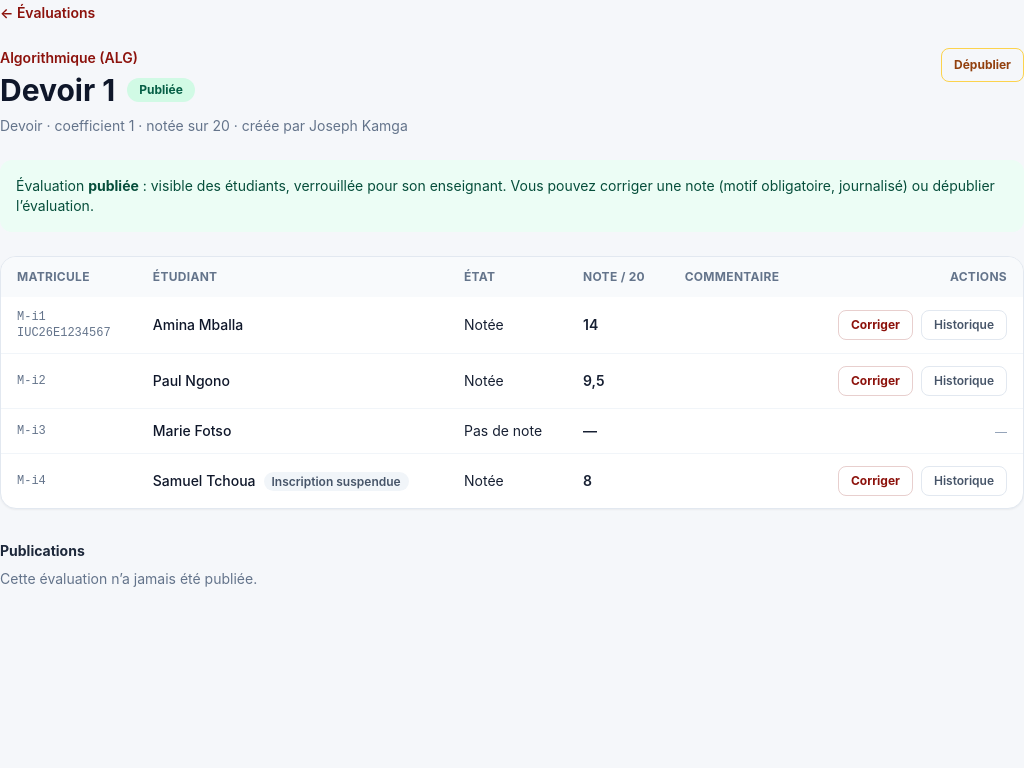
Scenario: grille de notes du personnel › conflit : relit la grille, garde la fenêtre, les saisies et le motif, indique la valeur actuelle
Click the button "Corriger" in the row of "M-i1": (875, 325) [838,310,913,340]
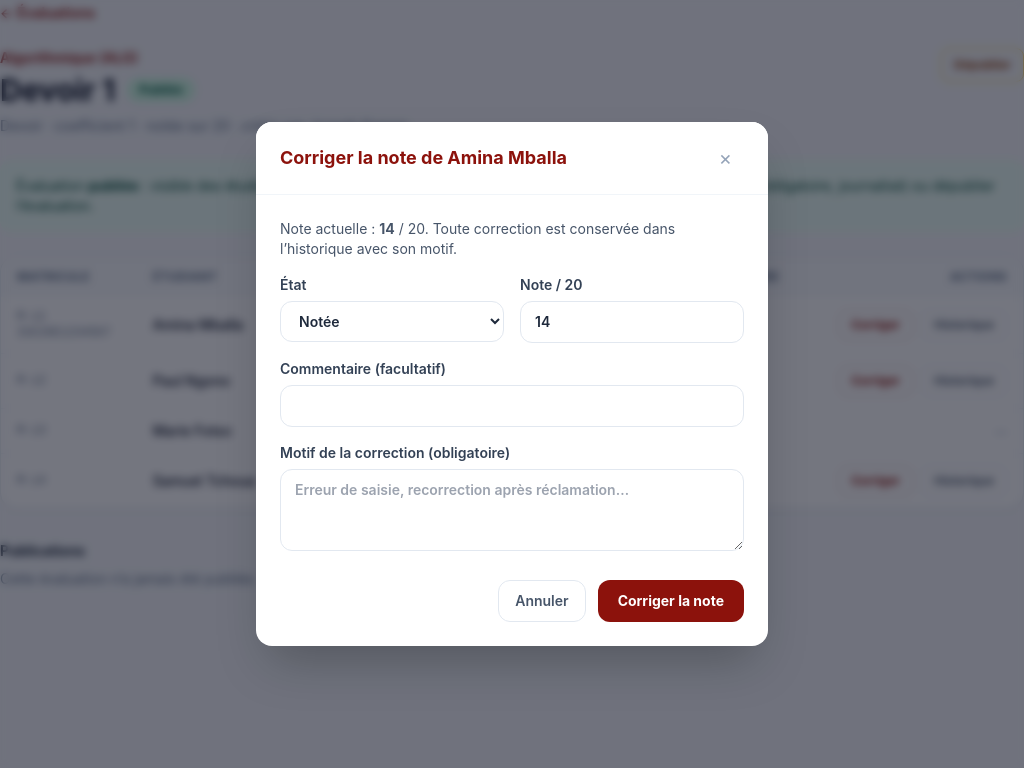
Replace the text in the field labelled "Note / 20" with "13": (632, 322) [520,301,744,343]
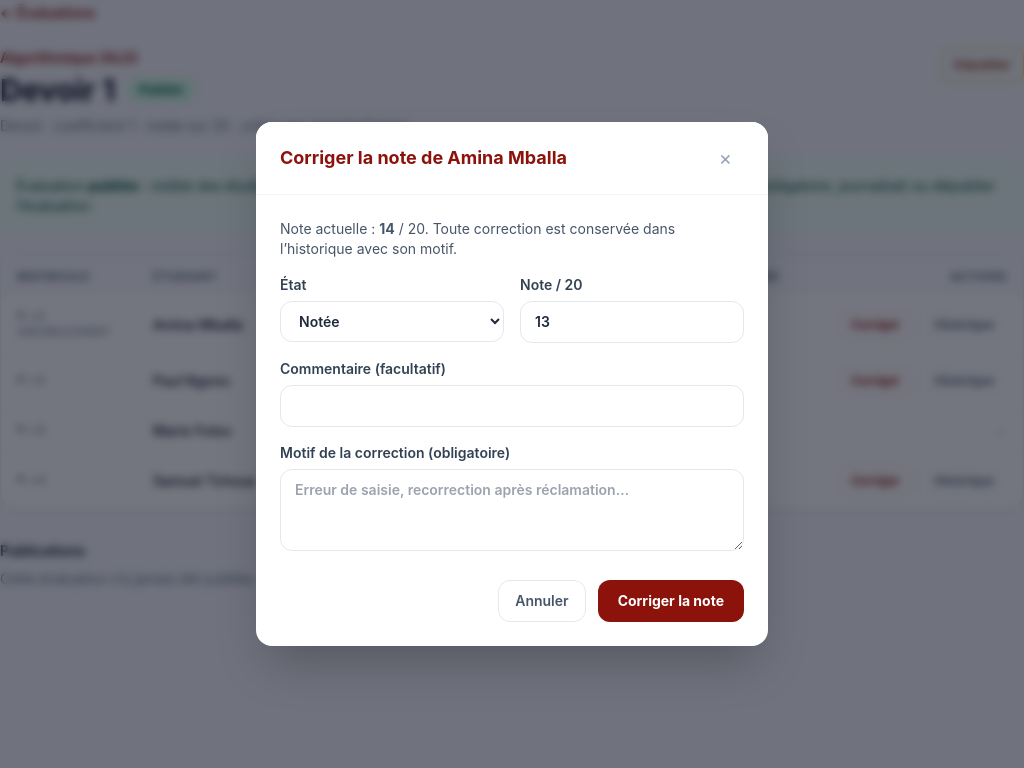
In the text box labelled "Motif de la correction (obligatoire)": (512, 510) [280,469,744,551], type "Recorrection"
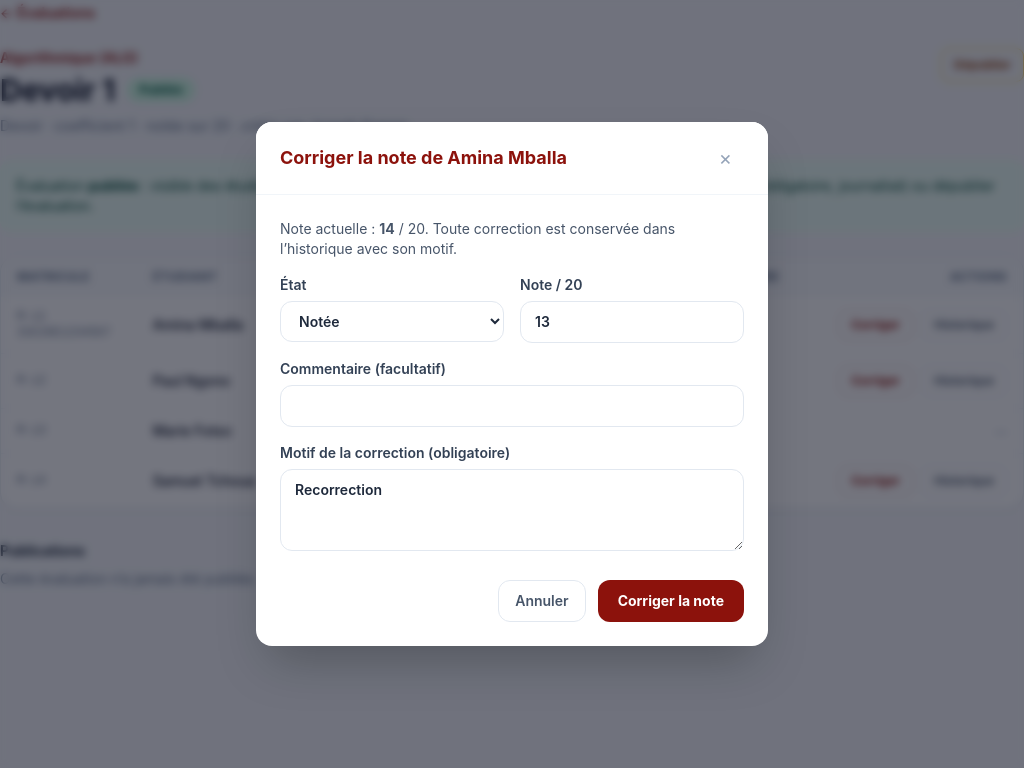
Click the button "Corriger la note": (671, 601) [598,580,744,622]
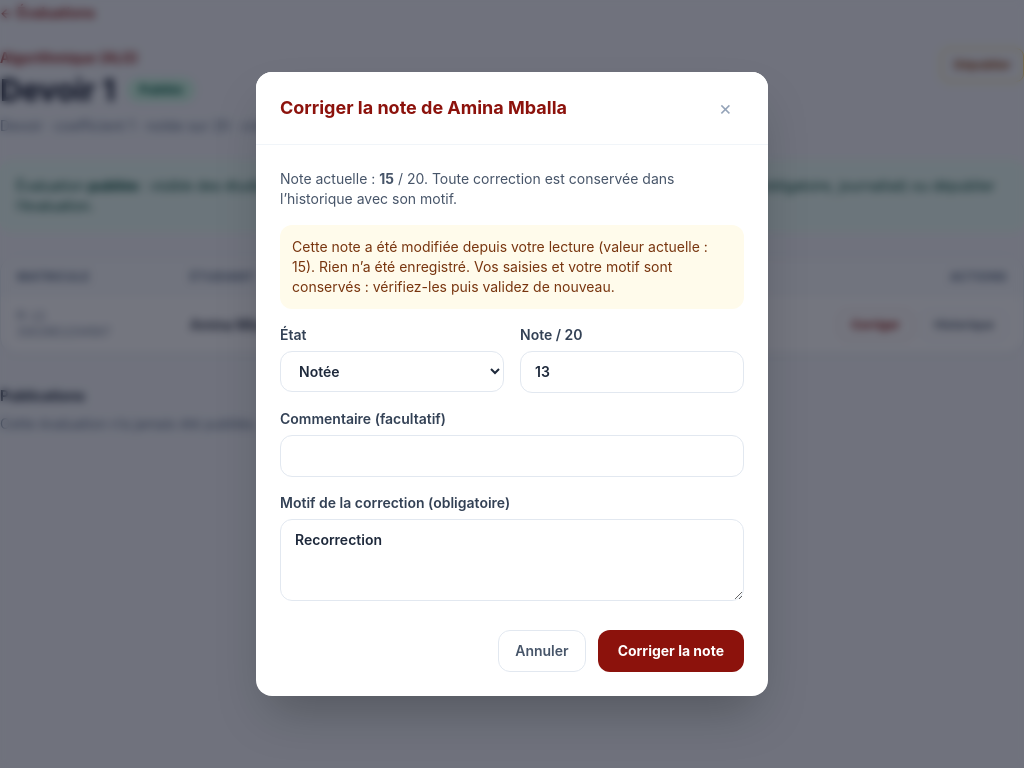
Expected: the message shows "modifiée depuis votre lecture", [292,238,708,295]
Expected: the message shows "valeur actuelle : 15", [292,238,708,295]
Expected: the message shows "Rien n’a été enregistré", [292,238,708,295]
Click the button "Corriger la note": (671, 651) [598,630,744,672]
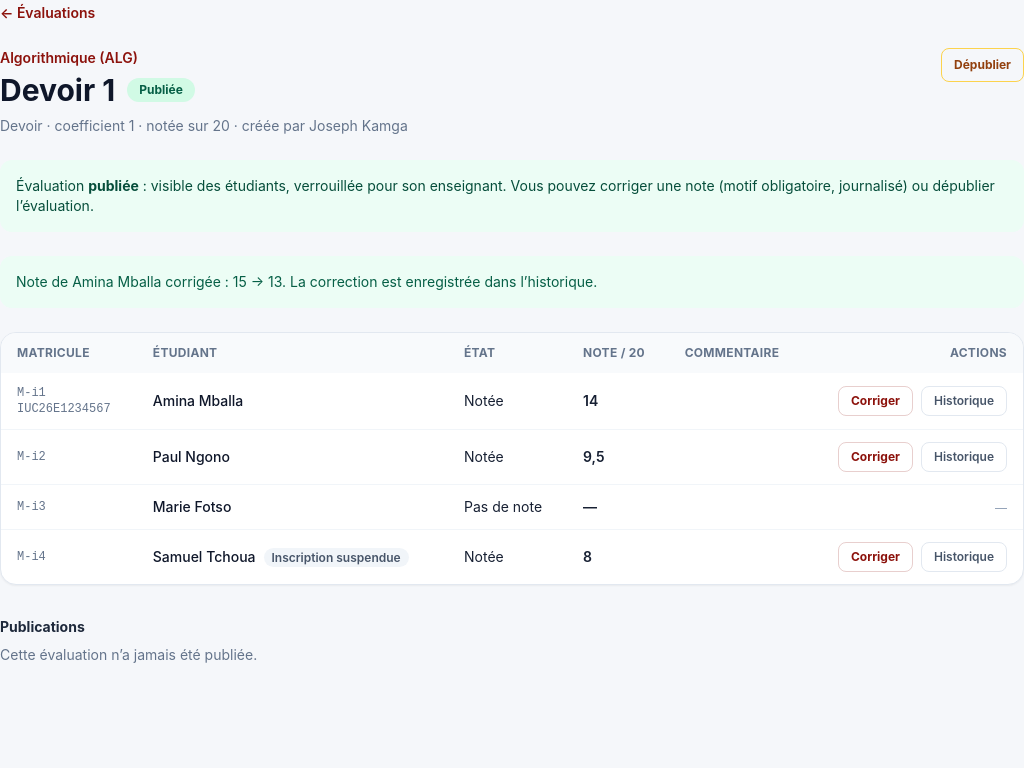
Expected: the message shows "15 → 13", [16,273,597,290]
